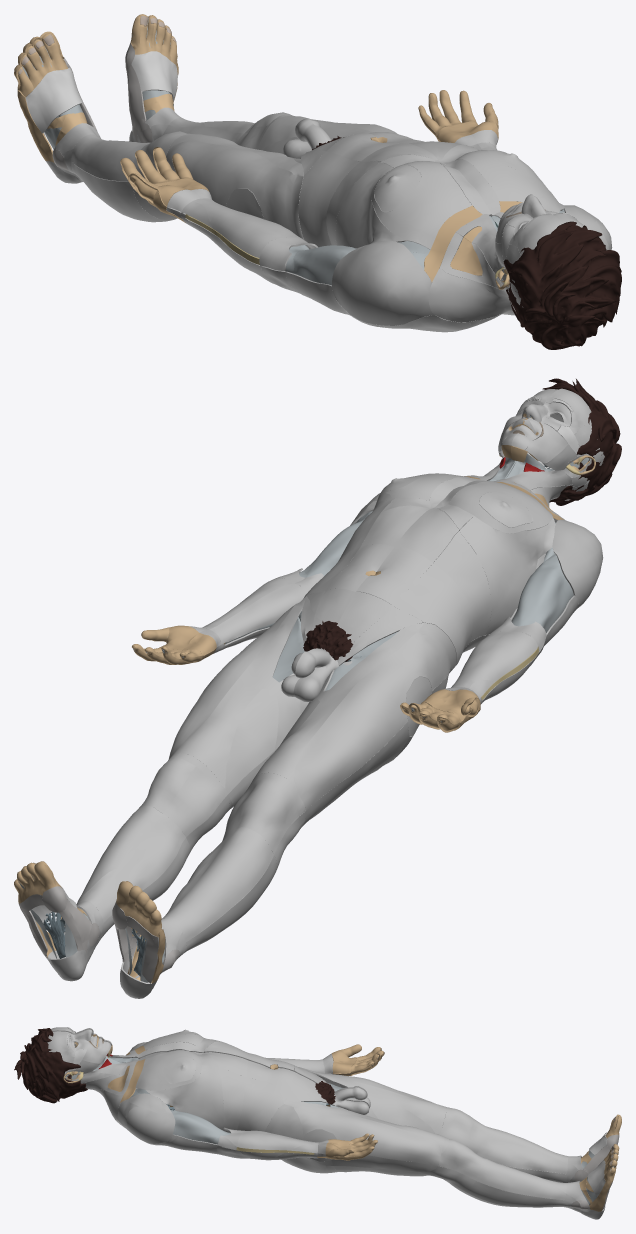
File: connective-zanat.glb
3 renders of one model, top to bottom at view 1: azimuth 30°, elevation 25°; view 2: azimuth 150°, elevation 25°; view 3: azimuth 270°, elevation 25°, orthographic. The views are drawn at different scales.
Visible parts, largest first — view 1: connective-zanat; view 2: connective-zanat; view 3: connective-zanat.
Boxes of the visible parts, left/top/right/bottom form: connective-zanat: left=14, top=14, right=621, bottom=349; connective-zanat: left=14, top=378, right=621, bottom=998; connective-zanat: left=14, top=1027, right=621, bottom=1219.
Bounding box in the file's own units: 683 × 556 × 1746.
